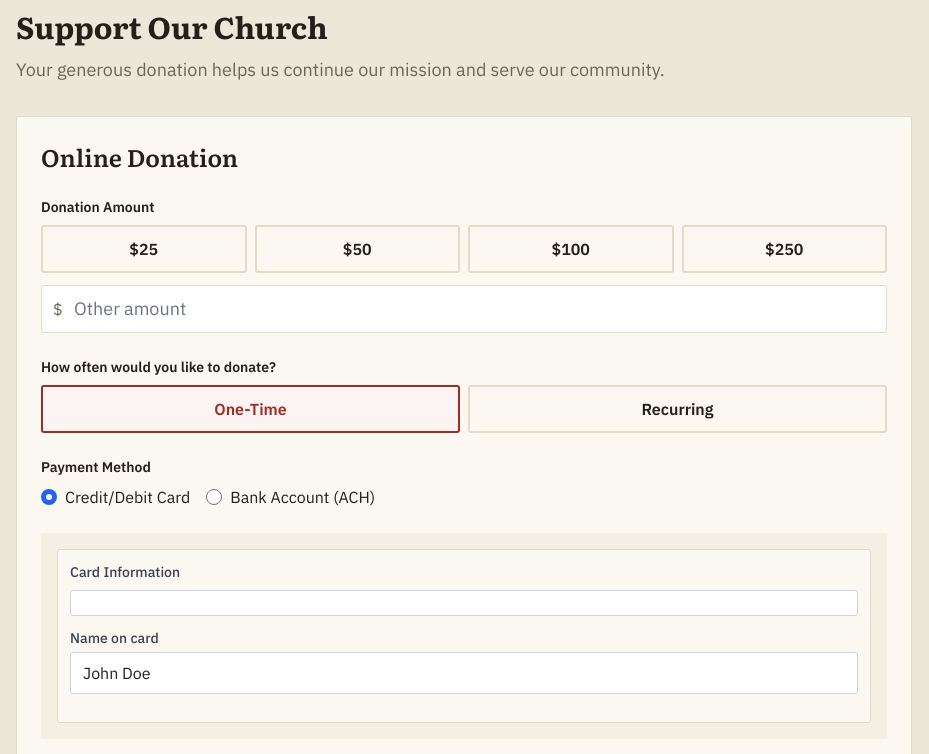
Test: DonatePage › tapping a preset fills the amount and marks itself chosen
Click the button "$50" at (357, 249), box 254,225 -> 460,273
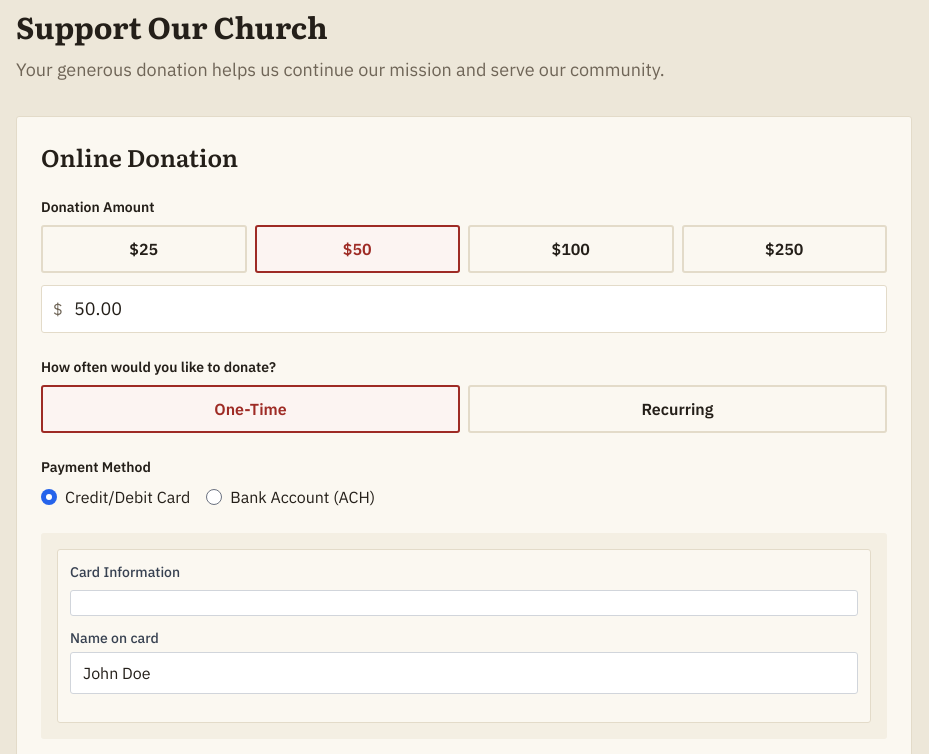
Expected: the field labelled "Donation Amount" holds "50.00", 41,285 -> 887,333
